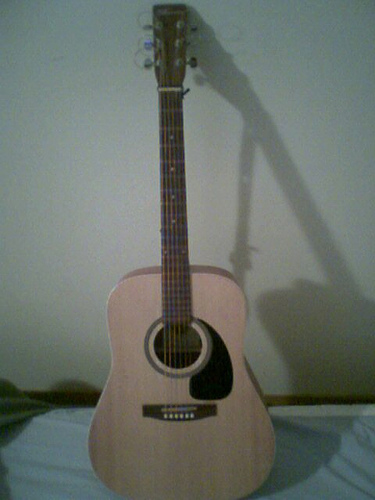guitar: (86, 2, 276, 500)
